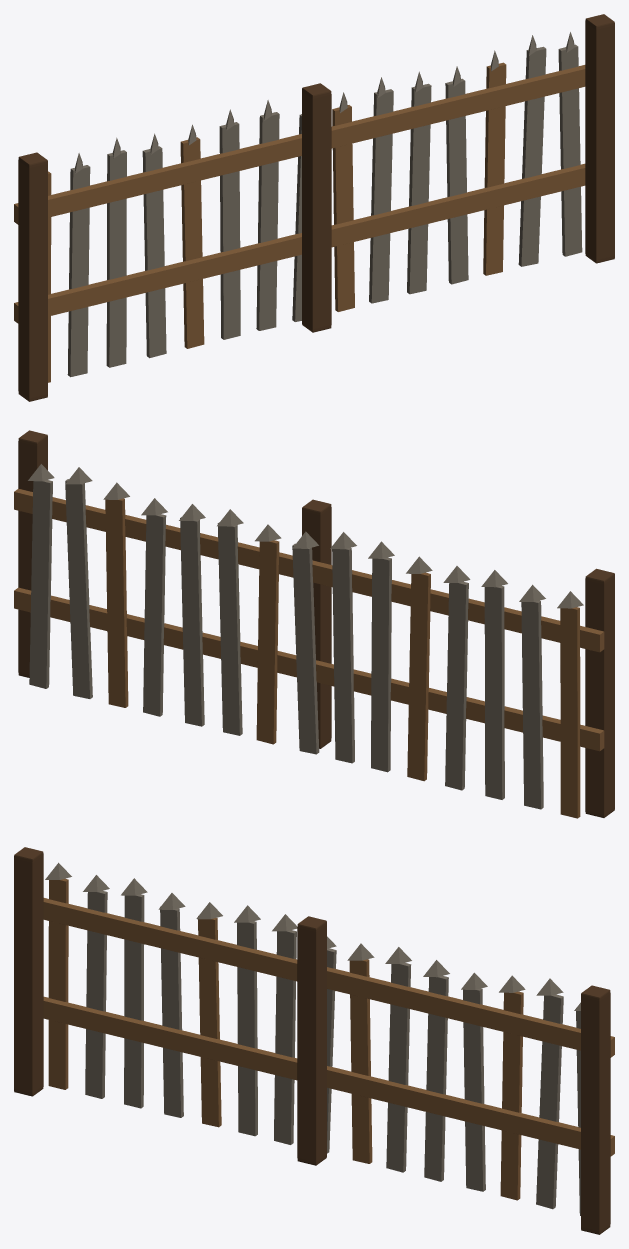
The model's file is zaun_latten.glb.
The picture shows the model from 3 angles, top to bottom: view 1: azimuth 30°, elevation 25°; view 2: azimuth 150°, elevation 25°; view 3: azimuth 330°, elevation 25°; orthographic projection.
Parts seen in each view (by area): view 1: Cube; view 2: Cube; view 3: Cube.
Part boxes in pixels (x1,y1,x2,y2): Cube: (14, 14, 614, 401); Cube: (14, 430, 614, 818); Cube: (14, 847, 614, 1234).
Bounding box in the file's own units: 3.1 × 1.2 × 0.196.
